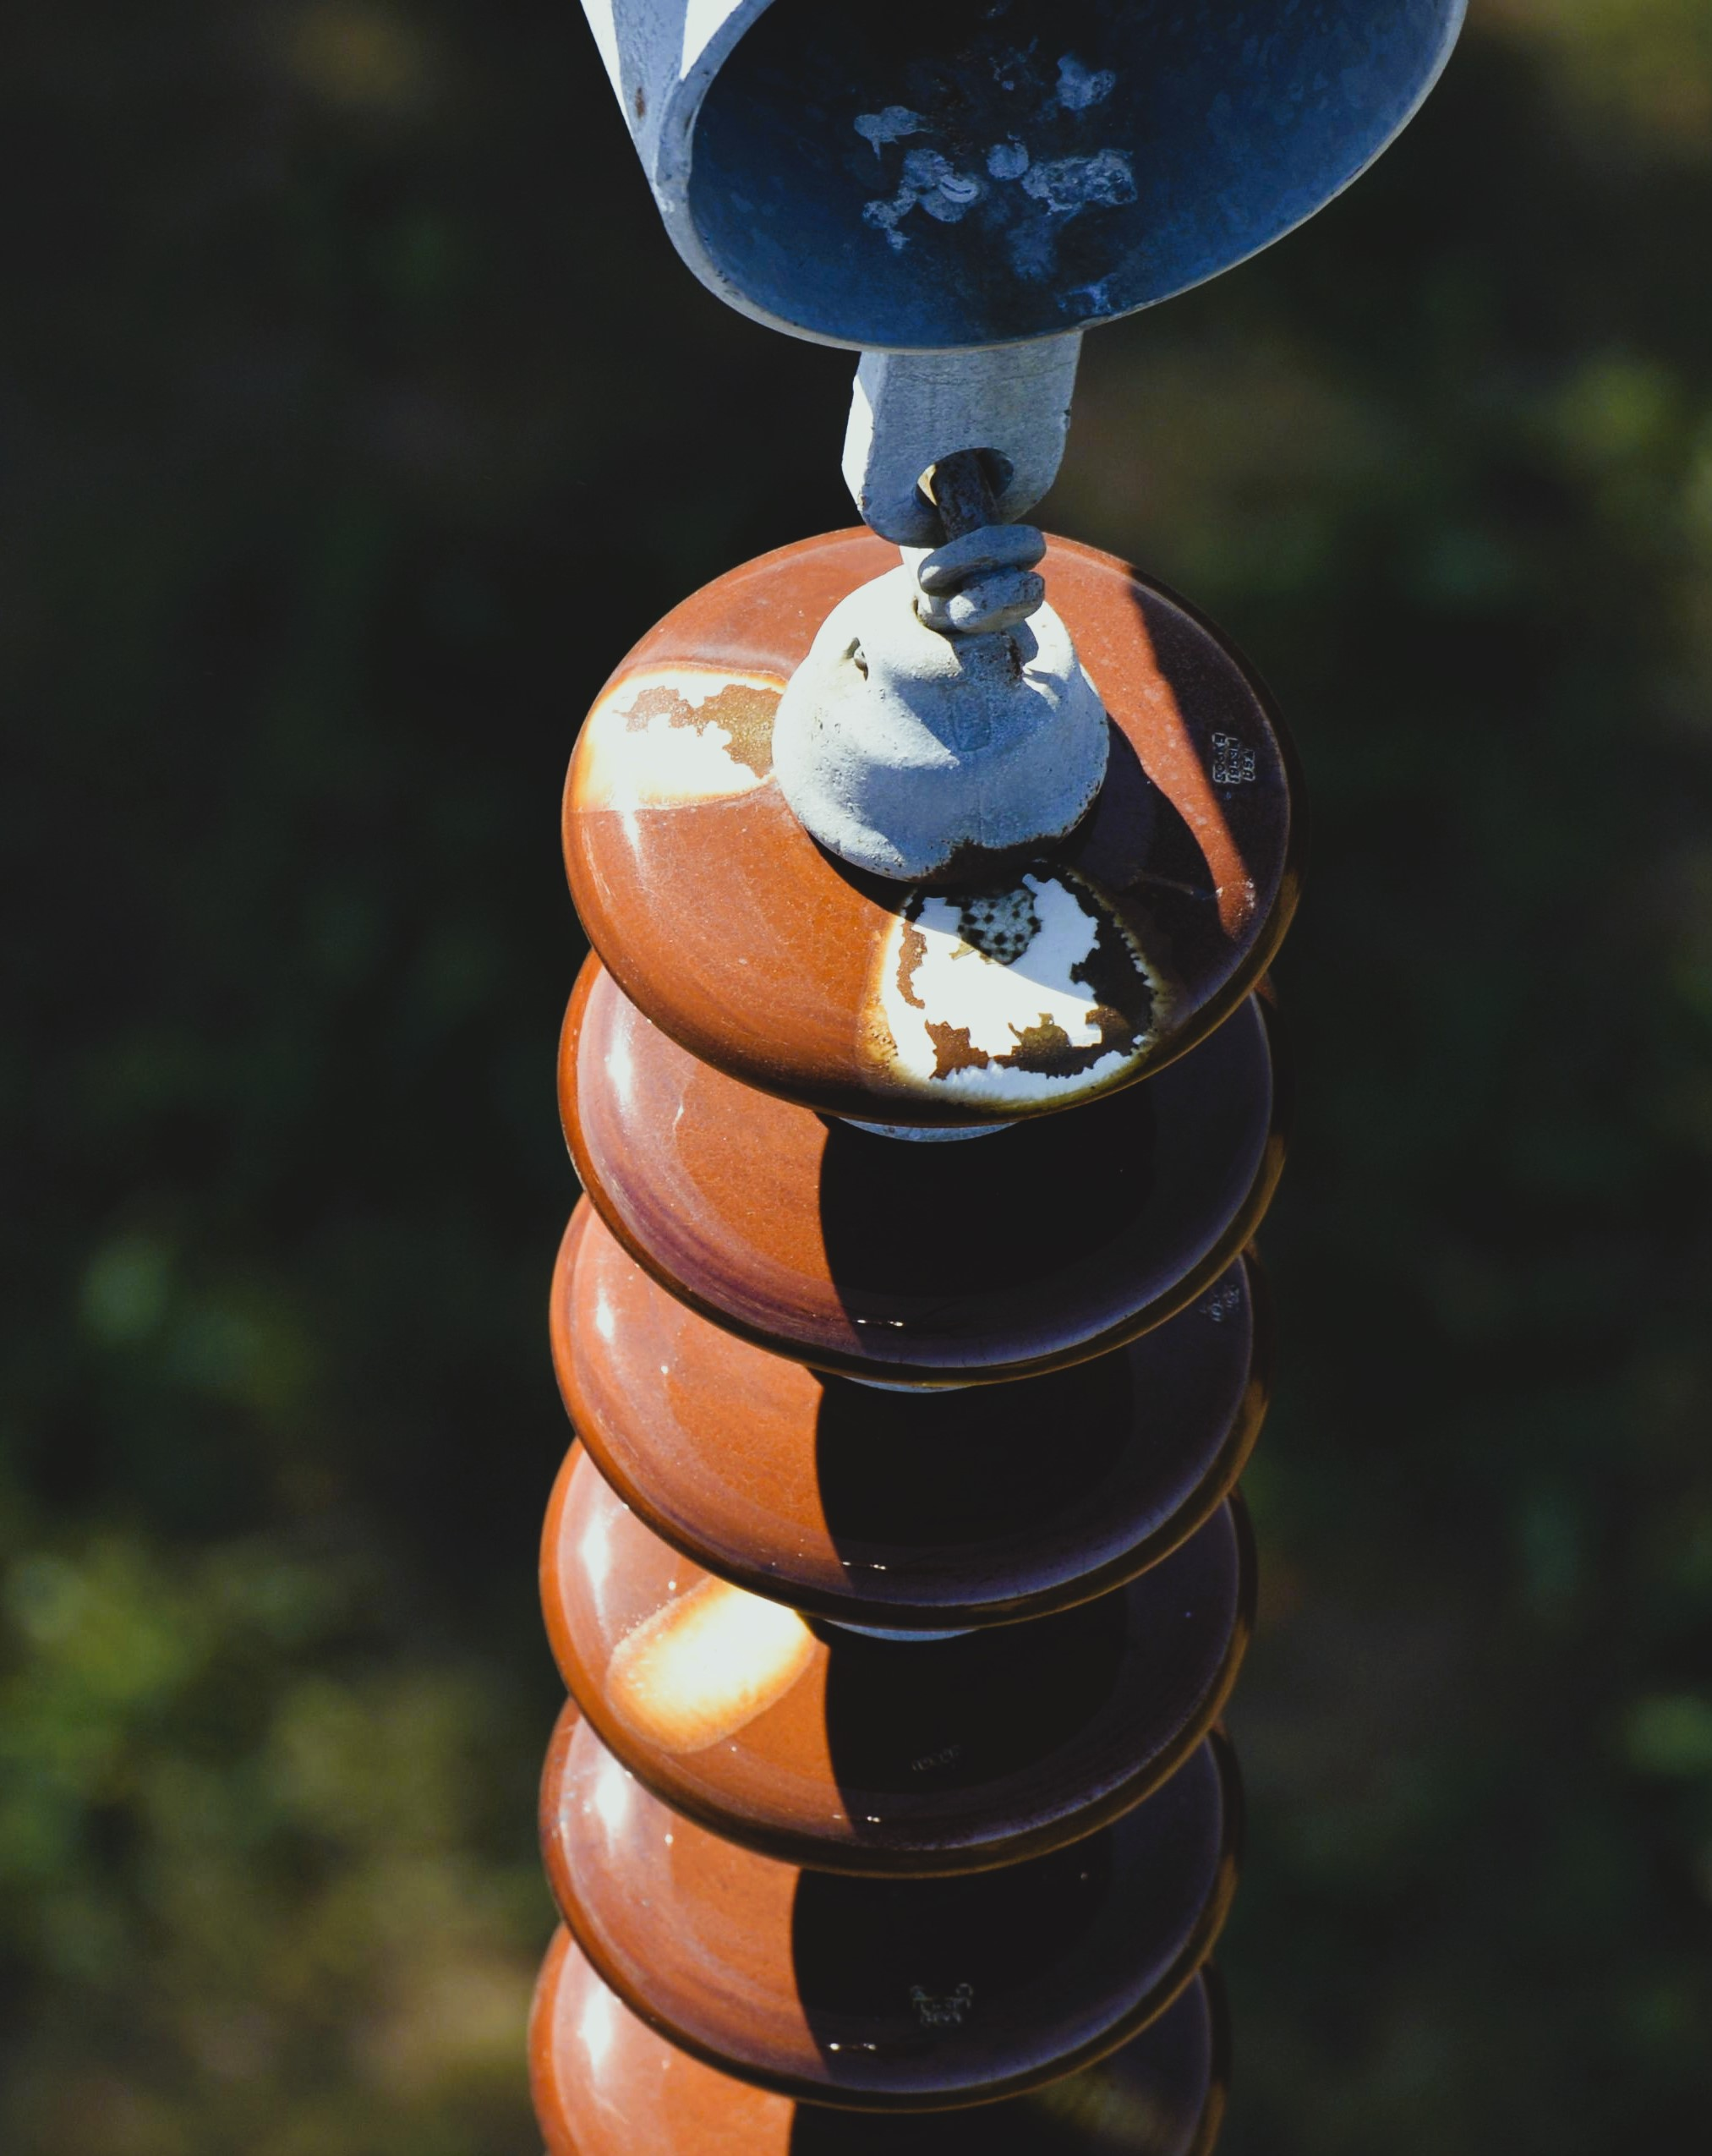Insulator flashover: (522, 490, 1329, 1136), (516, 1438, 1267, 1885)
